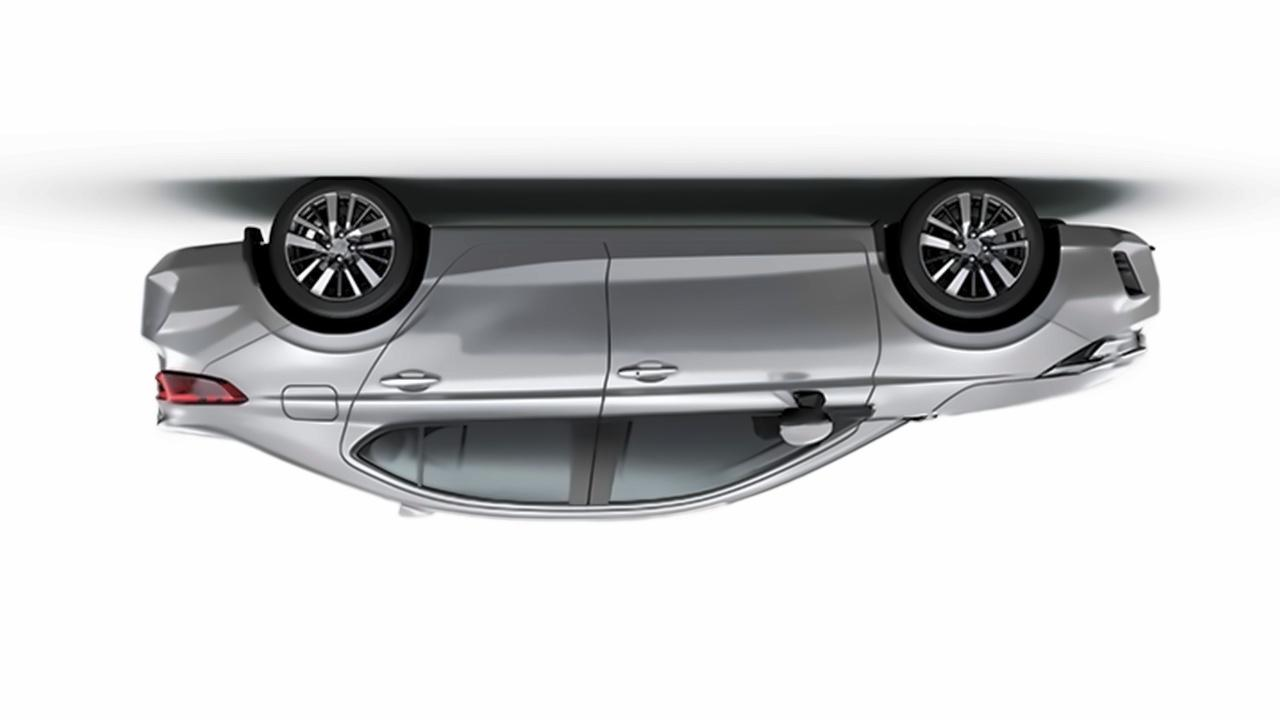Fender - -F-L-: (853, 218, 1087, 420)
Fender - -R-L-: (173, 270, 439, 476)
Front bumper: (1047, 215, 1168, 352)
Headlight - -L-: (1033, 329, 1146, 378)
Passenger-s door - -F-L-: (586, 208, 891, 528)
Passenger-s door - -R-L-: (334, 207, 617, 532)
Rear bumper: (140, 217, 281, 371)
Rear light - -L-: (156, 369, 249, 409)
Side bumper - -L-: (419, 199, 892, 276)
Side mirror - -L-: (776, 389, 836, 446)
